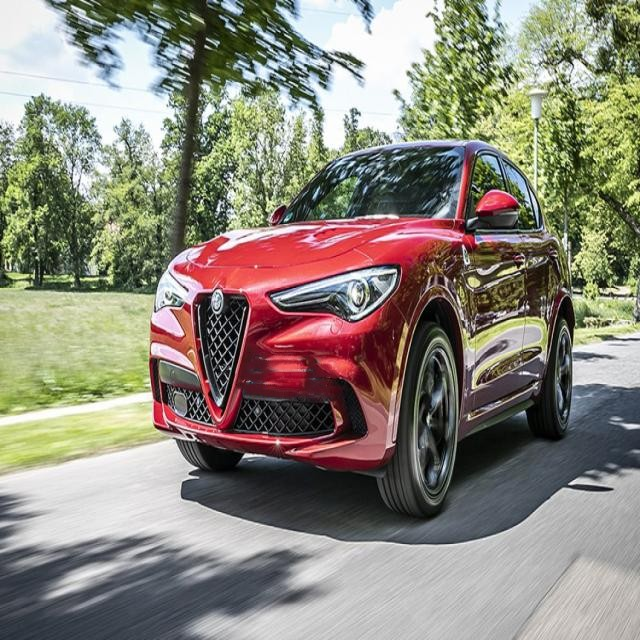car: (147, 137, 577, 520)
